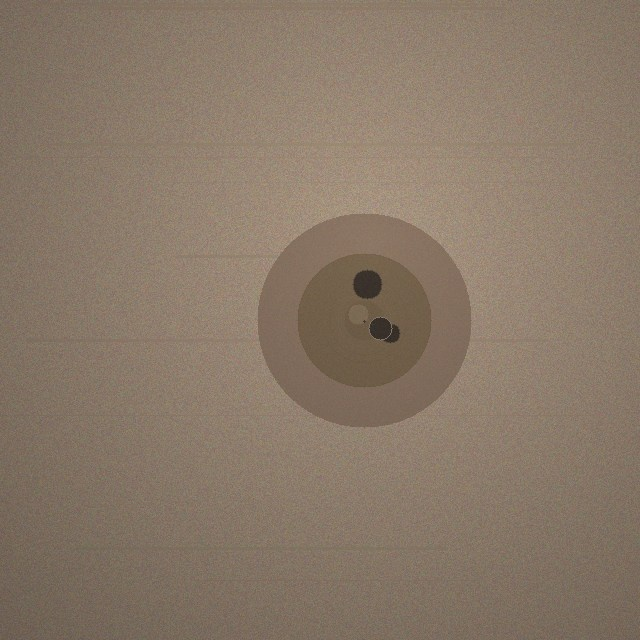shrinkage: (257, 213, 471, 427)
